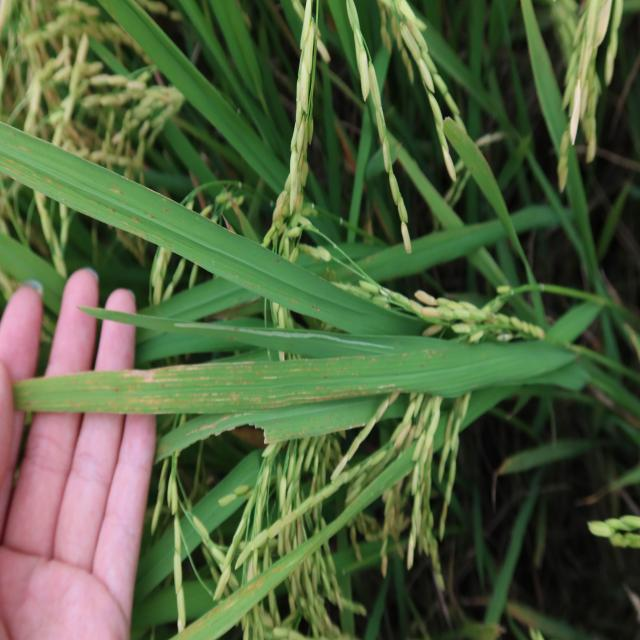Dom soc vi khuan: (0, 149, 180, 252), (193, 388, 322, 414), (122, 362, 251, 385), (323, 380, 407, 399)
